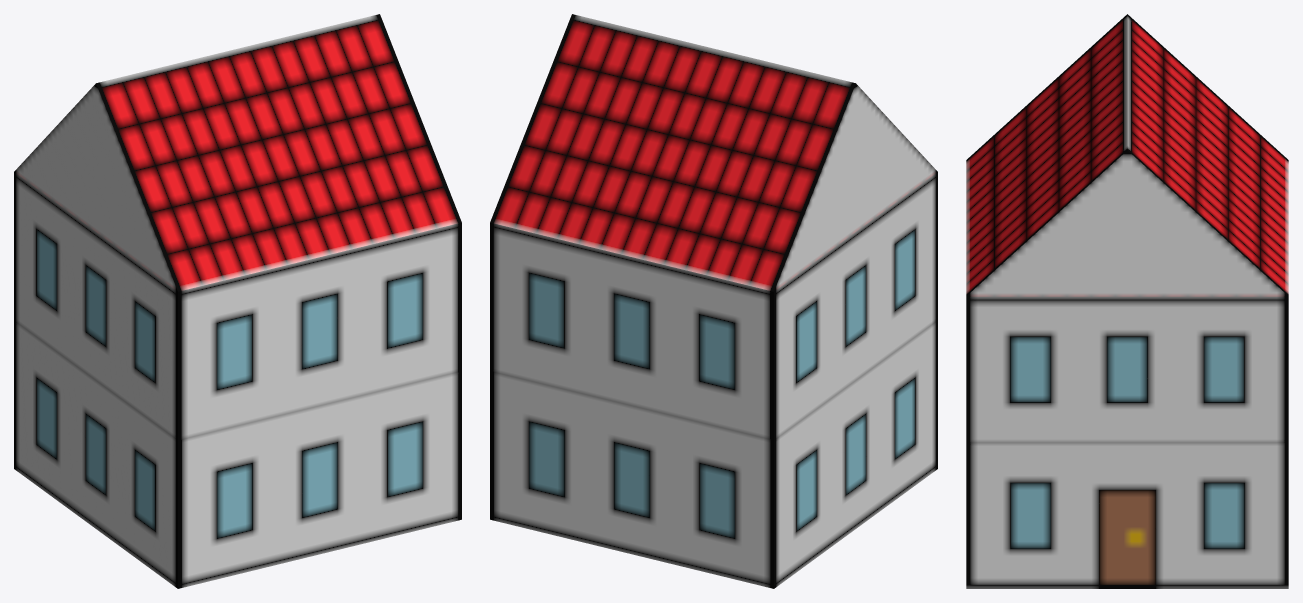
The model's file is House.fbx.
3 renders of one model, left to right at view 1: azimuth 30°, elevation 25°; view 2: azimuth 150°, elevation 25°; view 3: azimuth 270°, elevation 25°, orthographic.
Visible parts, largest first — view 1: Cube.012, Cube.005, Cube.004, Cube.003, Cube.006, Cube.011; view 2: Cube.009, Cube.007, Cube.002, Cube.003, Cube.006, Cube.011; view 3: Cube.001, Cube.008, Cube.010, Cube.009, Cube.012.
Boxes of the visible parts, box(x1,y1,x2,y2) form: Cube.012: box(96, 14, 461, 291); Cube.005: box(178, 222, 461, 440); Cube.004: box(178, 371, 461, 588); Cube.003: box(14, 320, 177, 588); Cube.006: box(14, 172, 177, 439); Cube.011: box(14, 83, 177, 291); Cube.009: box(490, 14, 855, 291); Cube.007: box(490, 222, 773, 440); Cube.002: box(490, 371, 773, 588); Cube.003: box(774, 320, 937, 588); Cube.006: box(774, 172, 937, 439); Cube.011: box(774, 83, 937, 291); Cube.001: box(966, 442, 1288, 588); Cube.008: box(966, 296, 1288, 442); Cube.010: box(966, 150, 1288, 296); Cube.009: box(1127, 14, 1288, 295); Cube.012: box(966, 14, 1127, 295).
Size of the model in its own units: 100 by 150 by 100.
